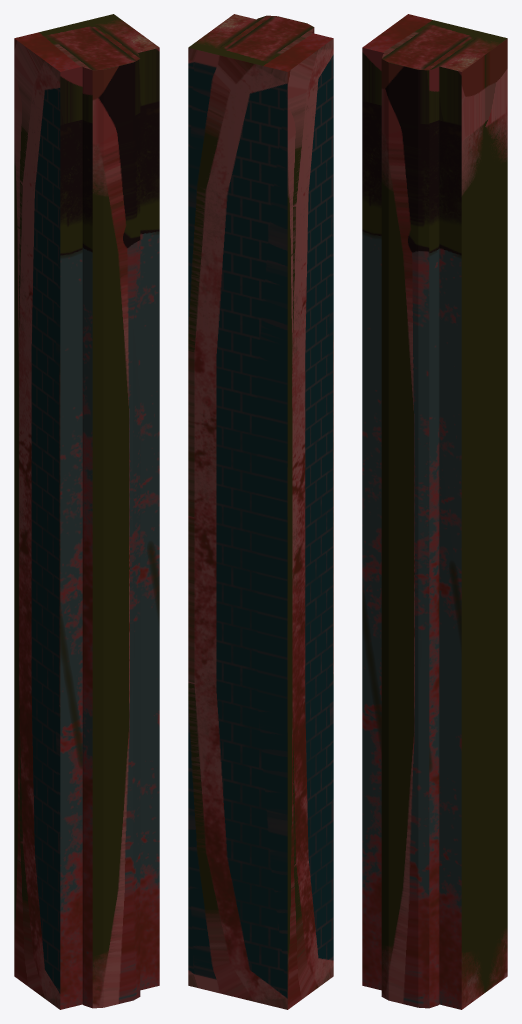
File: pilatra 9M.fbx
3 views of the same model, side by side, from view 1: azimuth 30°, elevation 25°; view 2: azimuth 150°, elevation 25°; view 3: azimuth 330°, elevation 25° (orthographic).
Parts seen in each view (by area): view 1: Cube.244; view 2: Cube.244; view 3: Cube.244.
Part boxes in pixels (box(x1,y1,x2,y2)): Cube.244: box(14, 14, 159, 1009); Cube.244: box(188, 14, 333, 1009); Cube.244: box(362, 14, 507, 1009).
Bounding box in the file's own units: 100 × 900 × 95.
